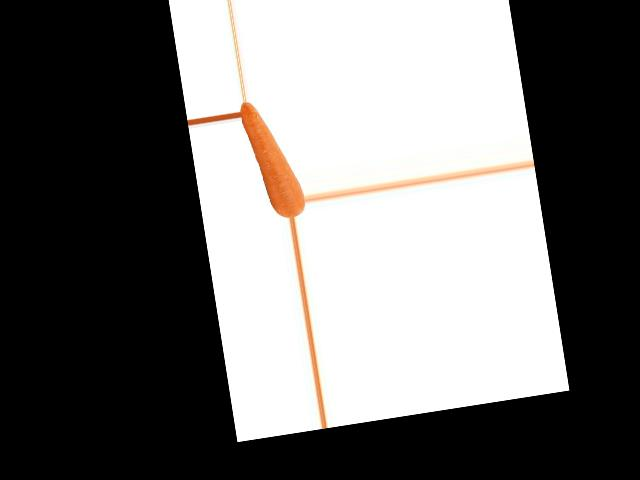carrot: (239, 97, 306, 223)
